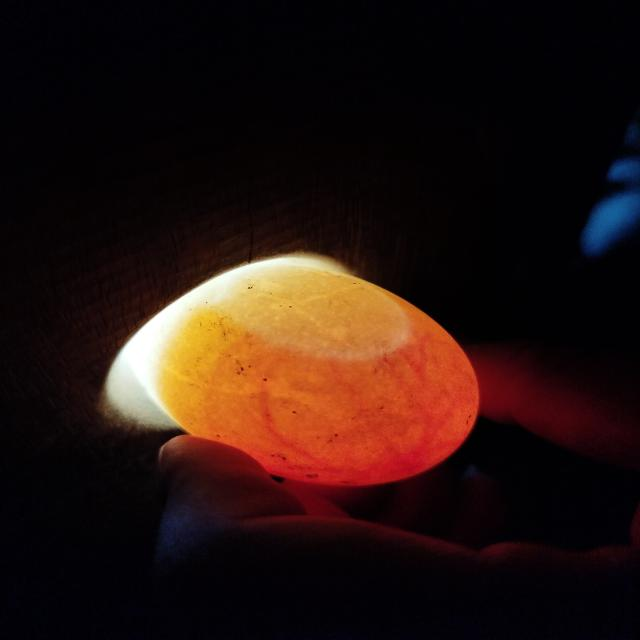Camara de Ar: (215, 265, 405, 355)
